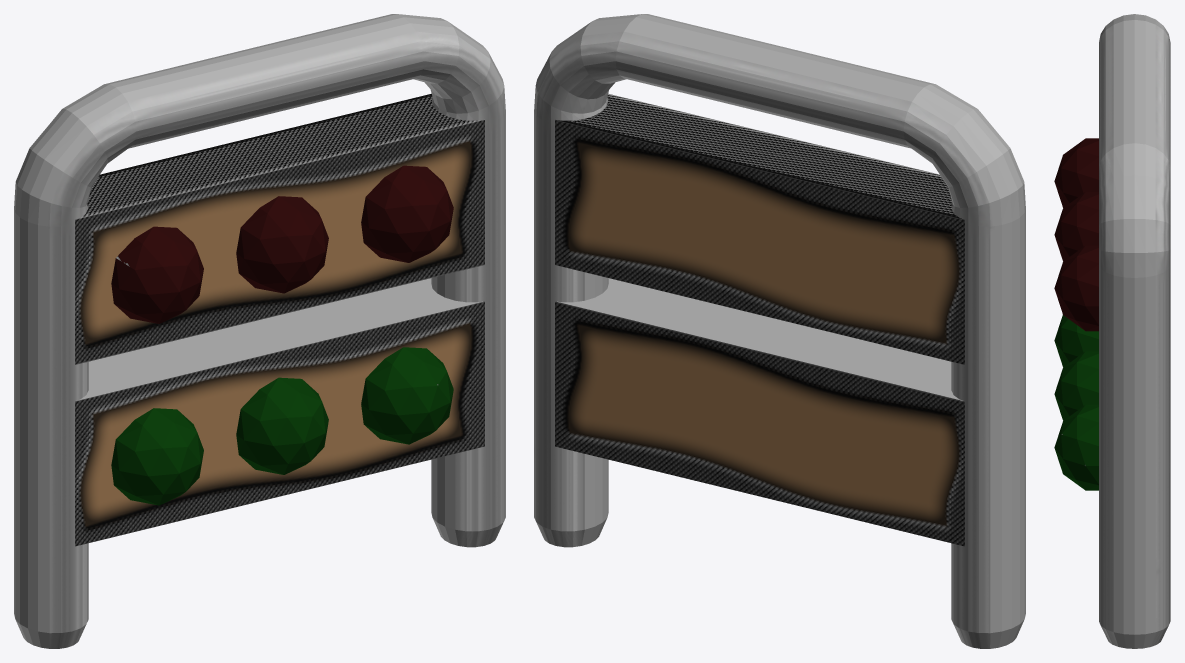
Rendered from TrafficLight.fbx.
The picture shows the model from 3 angles, left to right: view 1: azimuth 30°, elevation 25°; view 2: azimuth 150°, elevation 25°; view 3: azimuth 270°, elevation 25°; orthographic projection. The views are drawn at different scales.
Parts seen in each view (by area): view 1: polySurface2; view 2: polySurface2; view 3: polySurface2.
Part boxes in pixels (left/top/right/bottom): polySurface2: left=14, top=14, right=505, bottom=648; polySurface2: left=534, top=14, right=1025, bottom=648; polySurface2: left=1054, top=14, right=1170, bottom=648.
Size of the model in its own units: 6.92 by 7.34 by 1.65.
Materials: 1 (1 with a texture image).
